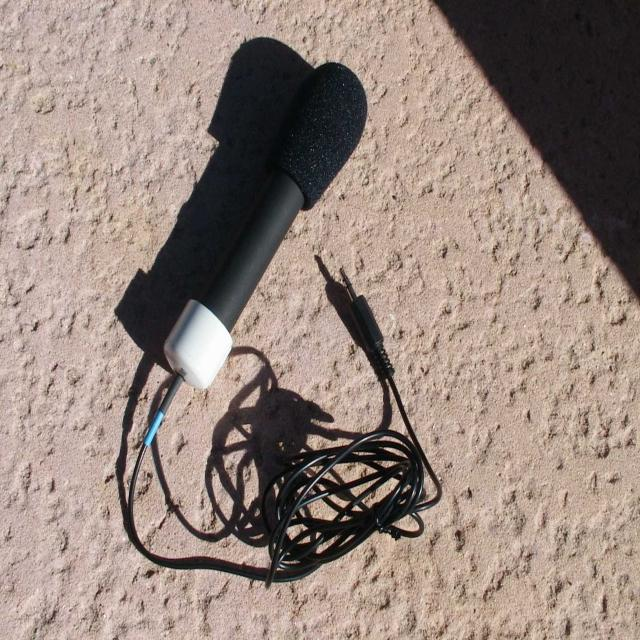microphone: (160, 57, 377, 393), (272, 60, 368, 209)
